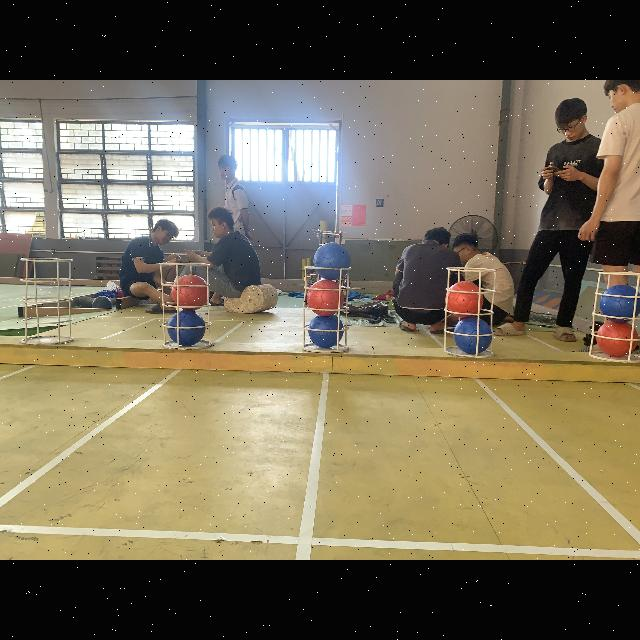B: (312, 242, 351, 280), (600, 286, 640, 322), (453, 319, 492, 355), (168, 310, 206, 346), (308, 314, 344, 350)
R: (594, 322, 638, 358), (444, 282, 484, 318), (306, 280, 346, 316), (171, 274, 209, 310)
